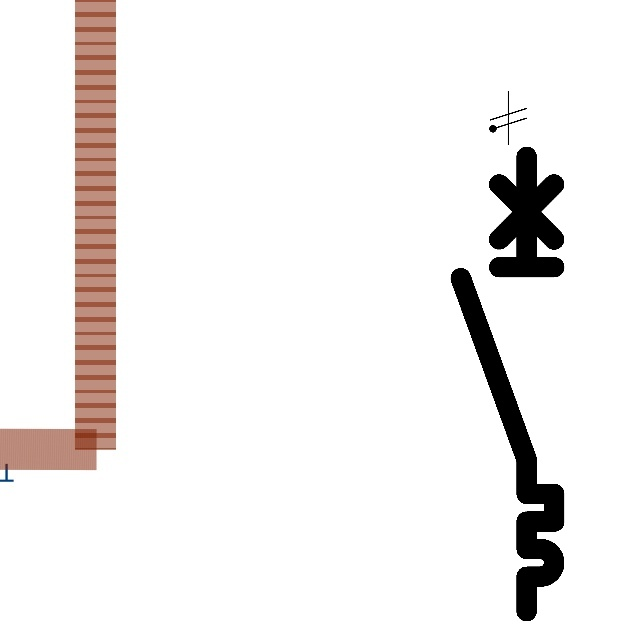interruptor_termomagnetico: (449, 145, 566, 623)
